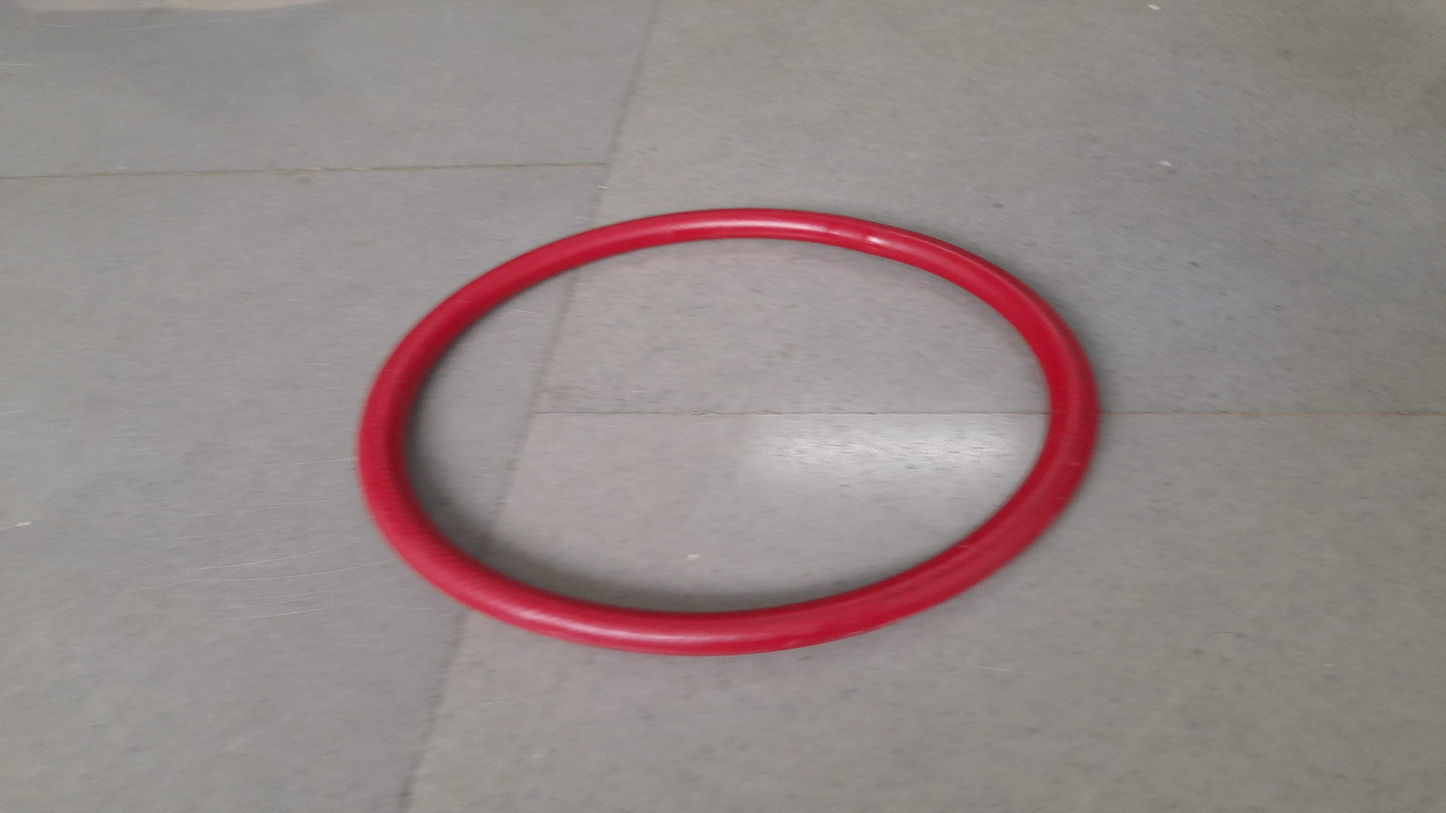Red ring: (357, 211, 1097, 659)
